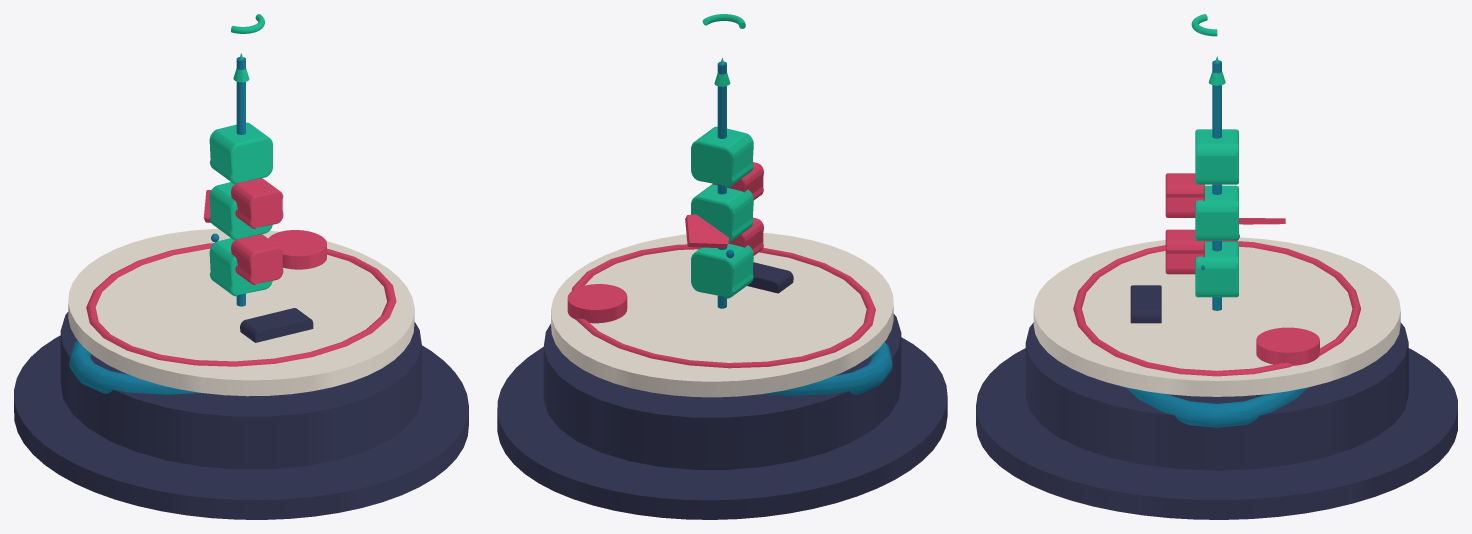
The model's file is 0325_揭秘食物图鉴_抱子甘蓝.glb.
3 views of the same model, side by side, from view 1: azimuth 30°, elevation 25°; view 2: azimuth 150°, elevation 25°; view 3: azimuth 270°, elevation 25° (orthographic).
Visible parts, largest first — view 1: card_0325; view 2: card_0325; view 3: card_0325.
Part boxes in pixels (x1,y1,x2,y2): card_0325: (14, 14, 468, 519); card_0325: (497, 14, 947, 519); card_0325: (976, 14, 1457, 519).
Size of the model in its own units: 1.01 by 1 by 1.08.
